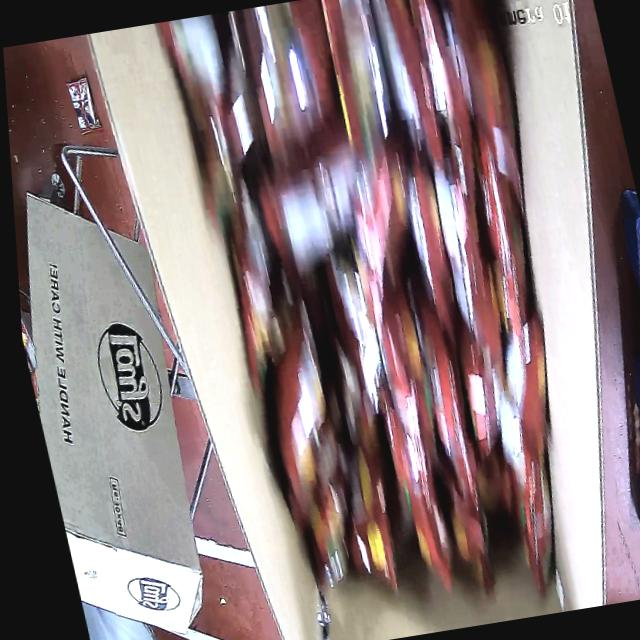MASALA: (161, 0, 632, 640)
